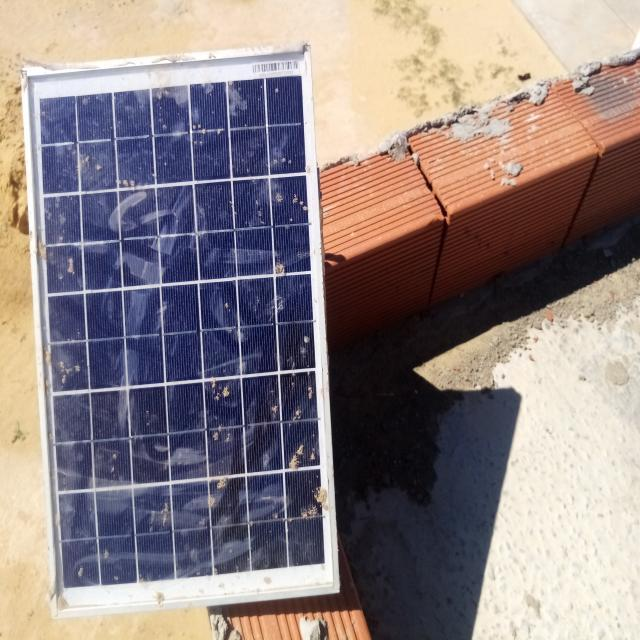faulty: (25, 43, 338, 611)
